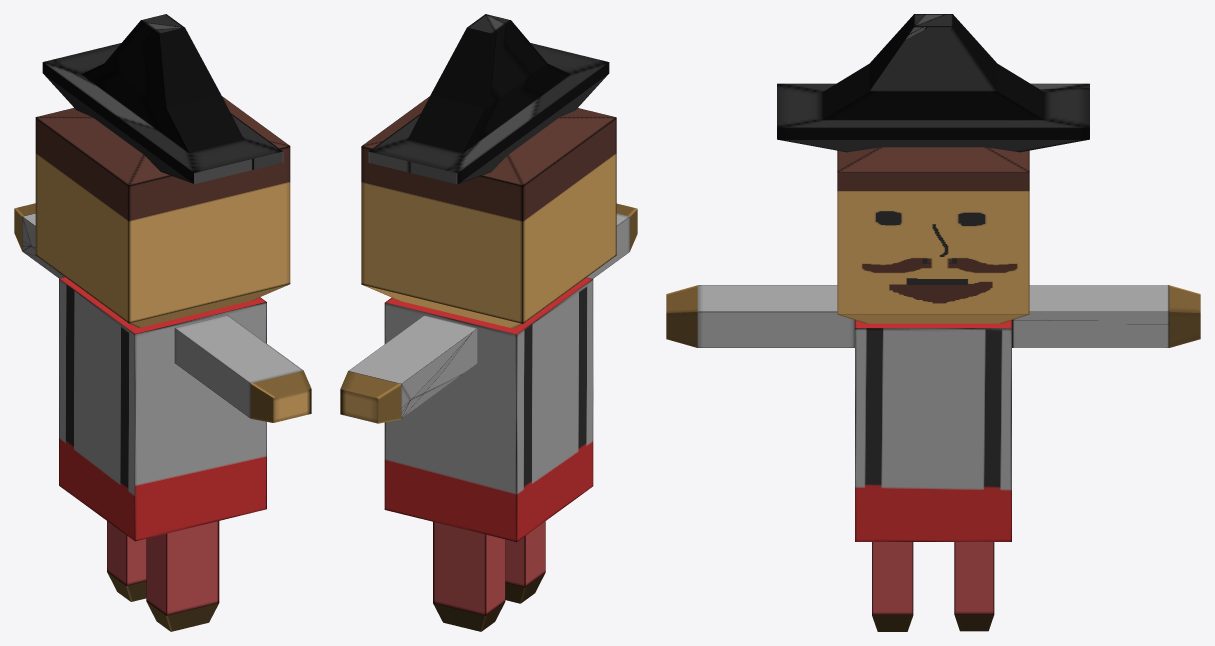
File: Player.fbx
3 views of the same model, side by side, from view 1: azimuth 30°, elevation 25°; view 2: azimuth 150°, elevation 25°; view 3: azimuth 270°, elevation 25° (orthographic). The views are drawn at different scales.
Visible parts, largest first — view 1: Player; view 2: Player; view 3: Player.
Boxes of the visible parts, x1,y1,x2,y2 form: Player: [14, 14, 311, 631]; Player: [340, 14, 637, 631]; Player: [666, 14, 1200, 631].
Bounding box in the file's own units: 326 × 1125 × 904.
